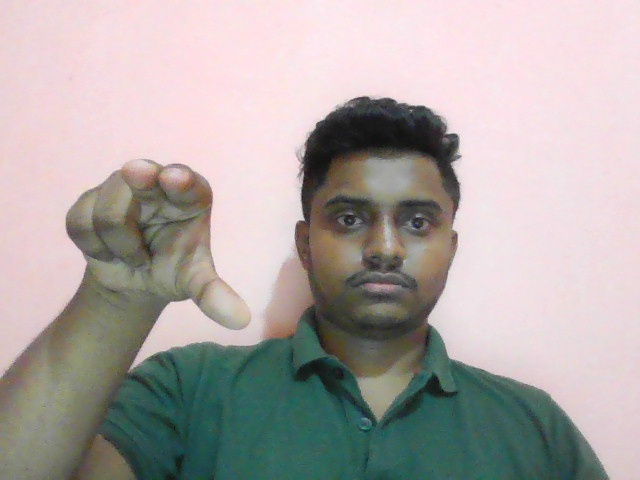No: (59, 150, 257, 336)
